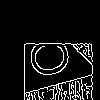O: (18, 33, 73, 84)
